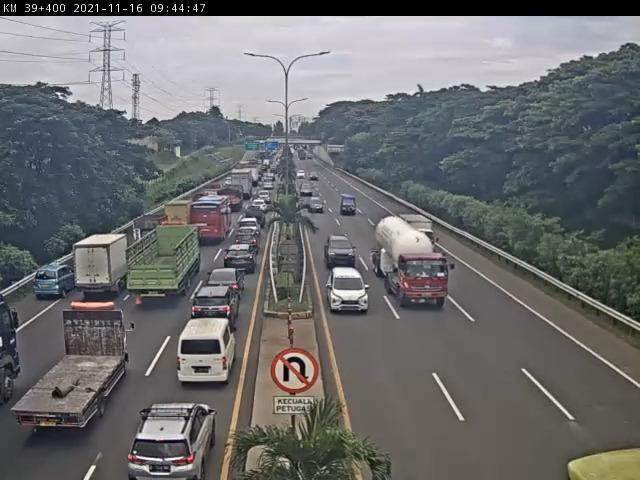bus: (189, 196, 233, 243)
car: (123, 410, 216, 480), (175, 320, 235, 383), (189, 288, 237, 336), (328, 269, 371, 314), (37, 264, 78, 299), (207, 268, 248, 299), (324, 234, 358, 269), (224, 247, 256, 276), (234, 232, 261, 252), (237, 217, 262, 238)
truck: (12, 304, 135, 432), (373, 214, 458, 310), (125, 226, 199, 305), (75, 235, 128, 300), (165, 198, 198, 233), (131, 211, 169, 241)
